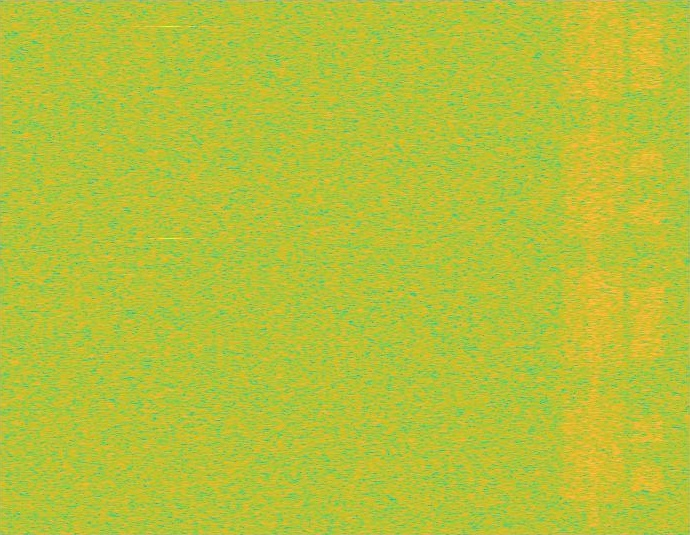5G: (559, 0, 628, 534)
DSSS: (586, 0, 602, 534)
LTE: (630, 0, 664, 534)
Radar: (163, 0, 177, 534)
